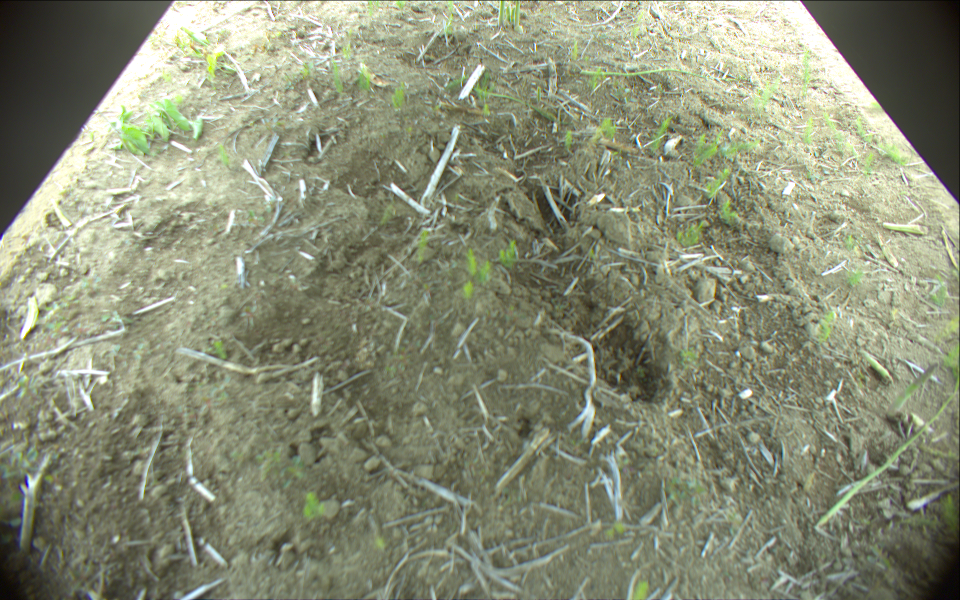aspa: (820, 374, 960, 527), (884, 361, 936, 417), (581, 68, 744, 79), (513, 1, 521, 25), (498, 1, 504, 24), (507, 5, 513, 24)
